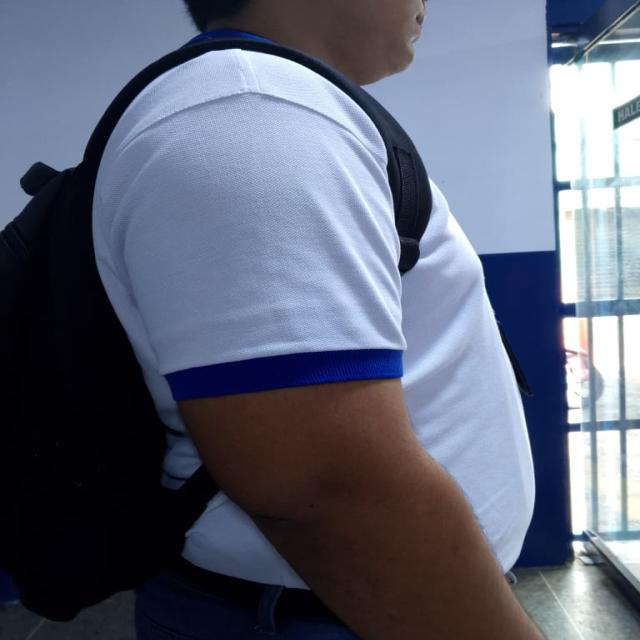uniforme_superior: (92, 29, 537, 591)
